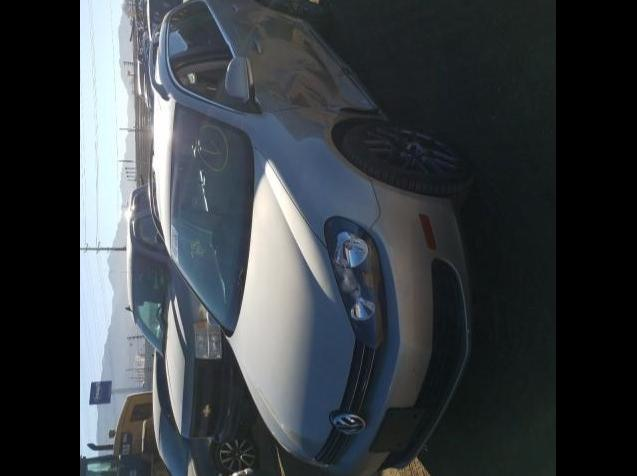Broken part: (330, 106, 384, 114)
Dent: (251, 36, 372, 114), (276, 18, 314, 38)
